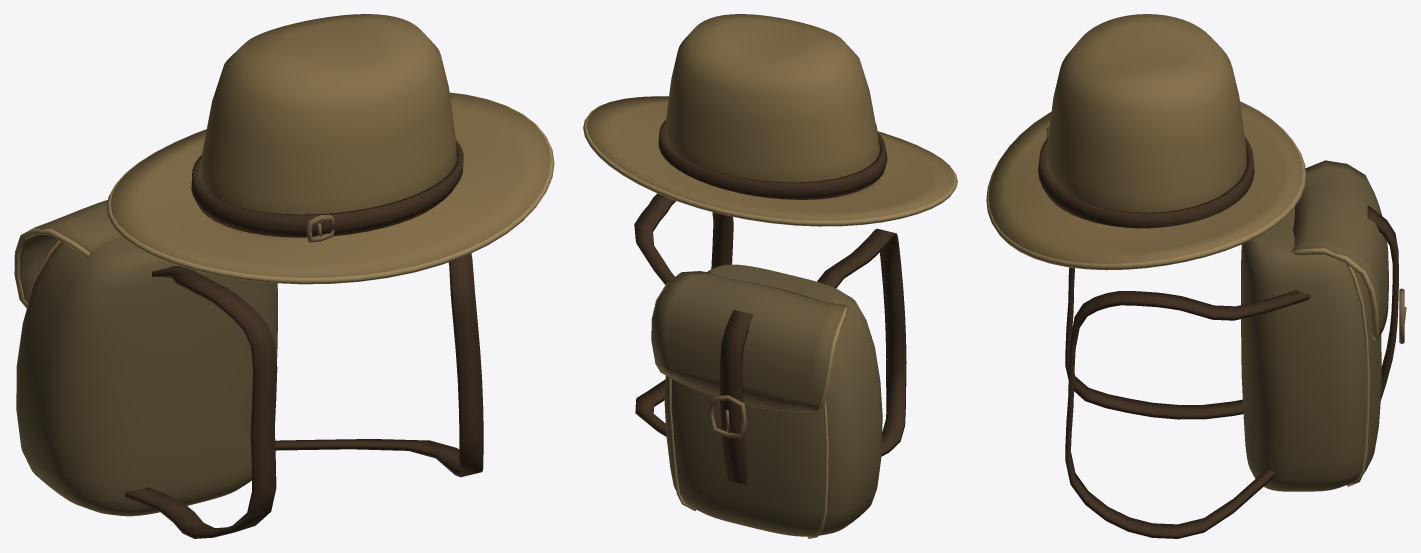
File: hunter-attire.glb
The picture shows the model from 3 angles, left to right: view 1: azimuth 30°, elevation 25°; view 2: azimuth 150°, elevation 25°; view 3: azimuth 270°, elevation 25°; orthographic projection. The views are drawn at different scales.
Visible parts, largest first — view 1: hunter-pack | Pack | compressed waxed-canvas body, hunter-hat | Felt crown | open fitted underside, shaped crea, hunter-hat | Uneven supple brim | annular cloth, hunter-pack | Left | continuous seated shoulder strap, hunter-pack | Right | continuous seated shoulder strap, hunter-hat | Crown band | surface-fitted leather, hunter-hat | Brim rolled hem, hunter-pack | Pack | overlapping curved flap, hunter-pack | Flap | worn continuous binding; view 2: hunter-hat | Felt crown | open fitted underside, shaped crea, hunter-pack | Pack | compressed waxed-canvas body, hunter-pack | Pack | overlapping curved flap, hunter-hat | Uneven supple brim | annular cloth, hunter-pack | Left | continuous seated shoulder strap, hunter-hat | Crown band | surface-fitted leather, hunter-pack | Right | continuous seated shoulder strap, hunter-pack | Closure | one broad leather tongue, hunter-hat | Brim rolled hem, hunter-pack | Flap | worn continuous binding, hunter-pack | Closure | seated bronze buckle forged frame, hunter-pack | Pack | sewn side panel welt; view 3: hunter-hat | Felt crown | open fitted underside, shaped crea, hunter-pack | Pack | compressed waxed-canvas body, hunter-hat | Uneven supple brim | annular cloth, hunter-pack | Pack | overlapping curved flap, hunter-pack | Right | continuous seated shoulder strap, hunter-hat | Crown band | surface-fitted leather, hunter-pack | Left | continuous seated shoulder strap, hunter-hat | Brim rolled hem, hunter-pack | Closure | one broad leather tongue, hunter-pack | Flap | worn continuous binding, hunter-pack | Pack | sewn side panel welt.001.
Boxes of the visible parts, bbox=[...] form: hunter-pack | Pack | compressed waxed-canvas body: bbox=[16, 237, 277, 516]; hunter-hat | Felt crown | open fitted underside, shaped crea: bbox=[198, 14, 456, 237]; hunter-hat | Uneven supple brim | annular cloth: bbox=[110, 93, 550, 277]; hunter-pack | Left | continuous seated shoulder strap: bbox=[125, 266, 277, 538]; hunter-pack | Right | continuous seated shoulder strap: bbox=[275, 253, 483, 477]; hunter-hat | Crown band | surface-fitted leather: bbox=[191, 140, 463, 237]; hunter-hat | Brim rolled hem: bbox=[106, 92, 554, 284]; hunter-pack | Pack | overlapping curved flap: bbox=[19, 200, 122, 303]; hunter-pack | Flap | worn continuous binding: bbox=[14, 227, 90, 308]; hunter-hat | Felt crown | open fitted underside, shaped crea: bbox=[665, 14, 879, 182]; hunter-pack | Pack | compressed waxed-canvas body: bbox=[664, 264, 882, 536]; hunter-pack | Pack | overlapping curved flap: bbox=[652, 271, 845, 410]; hunter-hat | Uneven supple brim | annular cloth: bbox=[586, 96, 954, 226]; hunter-pack | Left | continuous seated shoulder strap: bbox=[817, 228, 906, 456]; hunter-hat | Crown band | surface-fitted leather: bbox=[658, 120, 887, 199]; hunter-pack | Right | continuous seated shoulder strap: bbox=[634, 193, 733, 436]; hunter-pack | Closure | one broad leather tongue: bbox=[720, 310, 753, 485]; hunter-hat | Brim rolled hem: bbox=[583, 102, 957, 226]; hunter-pack | Flap | worn continuous binding: bbox=[651, 271, 848, 411]; hunter-pack | Closure | seated bronze buckle forged frame: bbox=[708, 395, 746, 438]; hunter-pack | Pack | sewn side panel welt: bbox=[807, 399, 828, 538]; hunter-hat | Felt crown | open fitted underside, shaped crea: bbox=[1045, 14, 1247, 212]; hunter-pack | Pack | compressed waxed-canvas body: bbox=[1241, 207, 1381, 491]; hunter-hat | Uneven supple brim | annular cloth: bbox=[988, 102, 1302, 270]; hunter-pack | Pack | overlapping curved flap: bbox=[1292, 160, 1389, 337]; hunter-pack | Right | continuous seated shoulder strap: bbox=[1065, 290, 1310, 538]; hunter-hat | Crown band | surface-fitted leather: bbox=[1038, 137, 1254, 228]; hunter-pack | Left | continuous seated shoulder strap: bbox=[1065, 267, 1243, 419]; hunter-hat | Brim rolled hem: bbox=[986, 101, 1306, 269]; hunter-pack | Closure | one broad leather tongue: bbox=[1367, 206, 1398, 400]; hunter-pack | Flap | worn continuous binding: bbox=[1291, 162, 1383, 340]; hunter-pack | Pack | sewn side panel welt.001: bbox=[1346, 264, 1369, 486].
Bounding box in the file's own units: 1.17 × 1.3 × 1.09.
